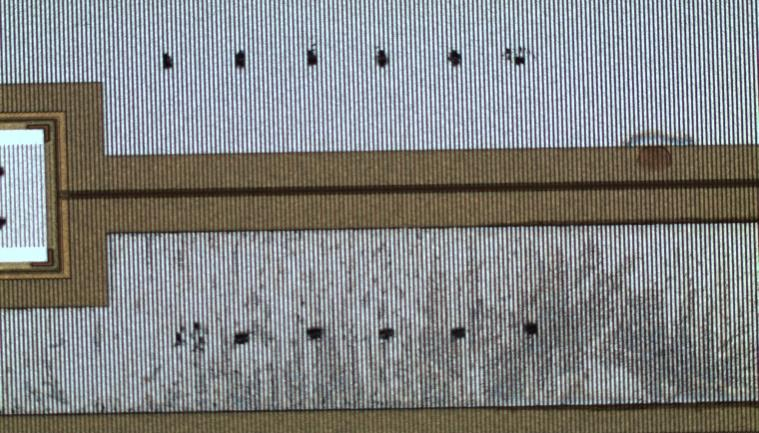SEZ BURNT: (1, 131, 759, 419)
